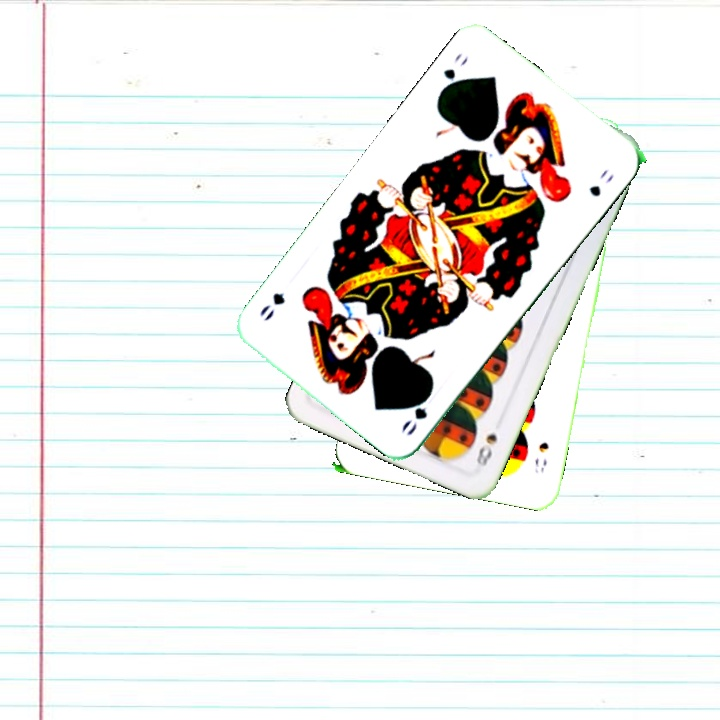GO: (397, 384, 436, 438), (435, 48, 472, 97)
S8: (472, 429, 500, 475), (530, 438, 551, 476)
